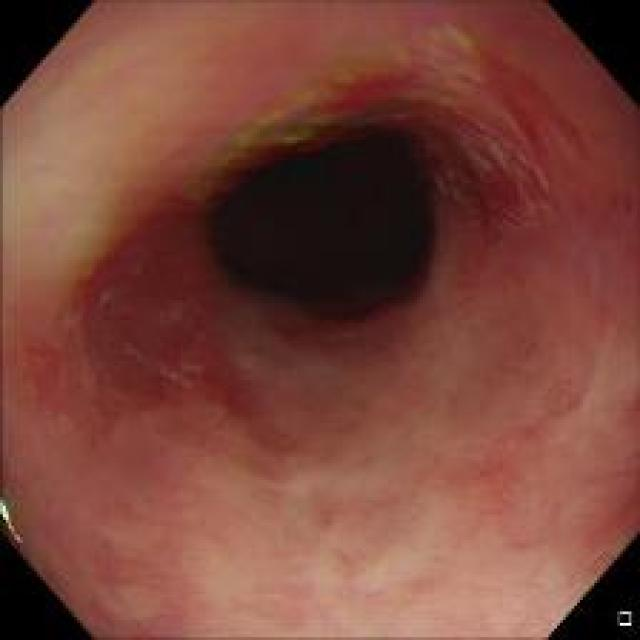color misalignment: (178, 91, 342, 210), (344, 18, 476, 116), (0, 494, 24, 548)
contrast: (195, 111, 472, 340)
